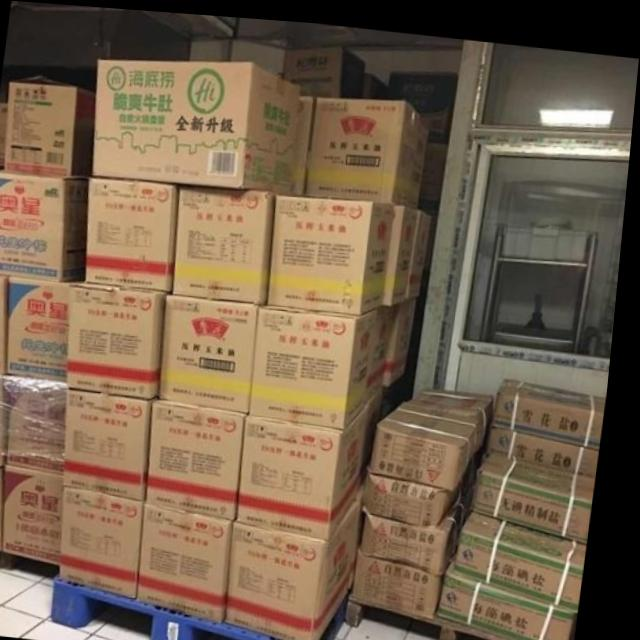box: (95, 58, 300, 190), (237, 490, 369, 640), (246, 396, 373, 533), (257, 299, 381, 424), (272, 189, 398, 310), (307, 92, 431, 202), (465, 502, 596, 600), (154, 392, 255, 518), (448, 551, 589, 640), (176, 181, 279, 300), (166, 287, 264, 409), (146, 498, 242, 621), (75, 279, 172, 395), (479, 443, 604, 533), (90, 173, 183, 289), (0, 167, 91, 281), (376, 393, 486, 484), (72, 388, 161, 498), (71, 484, 154, 596), (8, 73, 97, 176), (11, 274, 90, 381), (501, 369, 613, 441), (371, 489, 473, 567), (12, 374, 73, 474), (363, 543, 454, 610), (12, 465, 72, 563), (497, 416, 607, 467), (372, 463, 469, 520), (413, 380, 499, 439), (389, 64, 459, 130), (284, 40, 366, 94), (388, 196, 420, 299), (389, 292, 421, 381), (374, 298, 400, 396), (293, 91, 317, 191), (421, 129, 451, 208), (412, 203, 437, 294), (0, 372, 16, 468), (0, 273, 13, 374), (0, 466, 13, 552), (0, 101, 9, 167)
